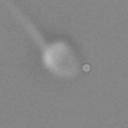normal: (2, 1, 47, 46)
